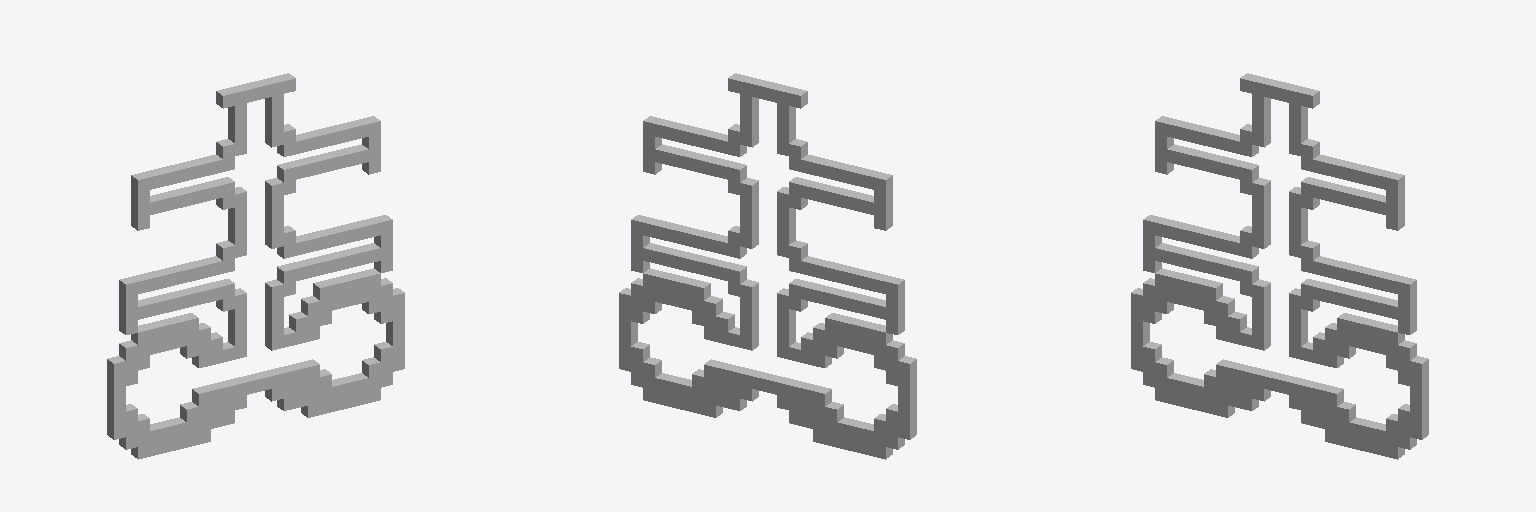
The model's file is brimstone.obj.
3 views of the same model, side by side, from view 1: azimuth 30°, elevation 25°; view 2: azimuth 150°, elevation 25°; view 3: azimuth 330°, elevation 25° (orthographic).
Parts seen in each view (by area): view 1: pPlane1; view 2: pPlane1; view 3: pPlane1.
Part boxes in pixels (bbox=[...]): pPlane1: bbox=[107, 73, 404, 459]; pPlane1: bbox=[619, 73, 916, 459]; pPlane1: bbox=[1131, 73, 1428, 459].
Size of the model in its own units: 697 by 784 by 29.02.